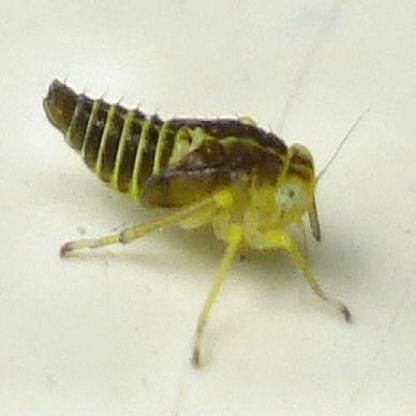green-leafhopper: (45, 80, 333, 354)
